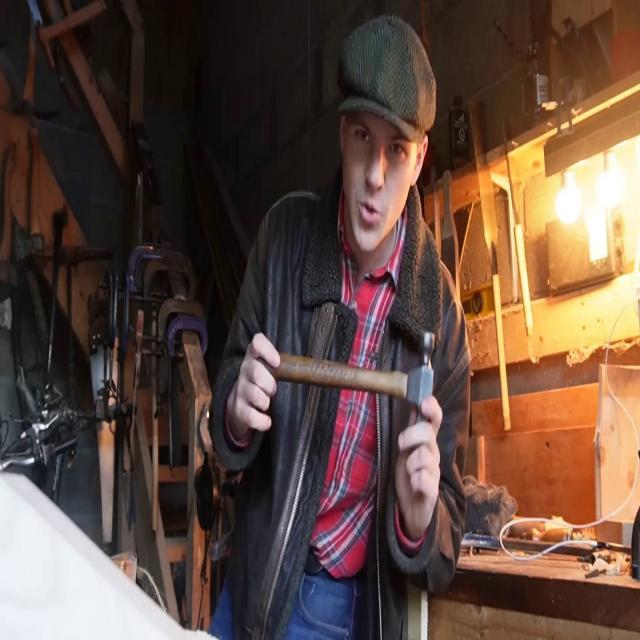hammer: (256, 326, 434, 427)
